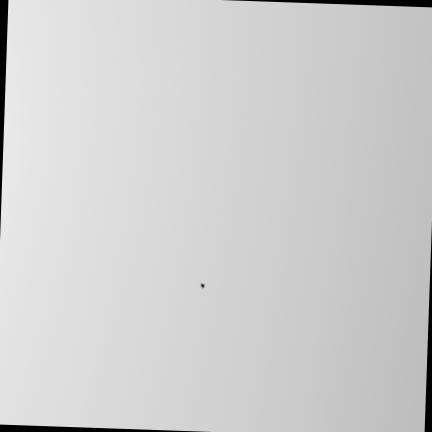Shahed: (200, 282, 204, 289)
